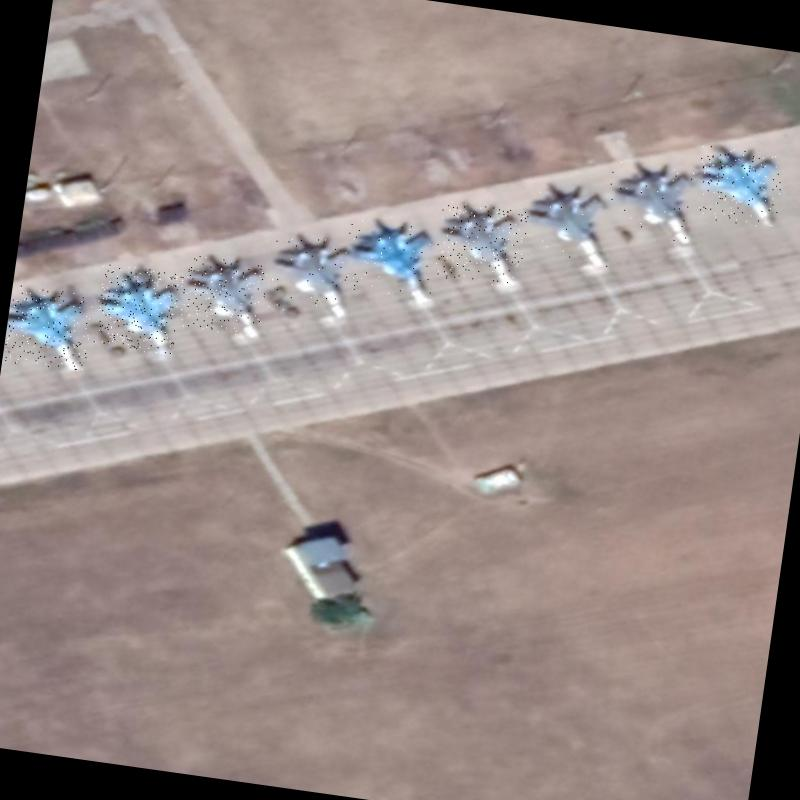A19: (520, 181, 621, 271), (340, 216, 442, 304), (603, 160, 704, 248), (92, 262, 184, 356), (431, 200, 528, 288), (2, 284, 94, 373), (690, 144, 786, 228), (266, 232, 356, 319), (178, 254, 268, 339)
